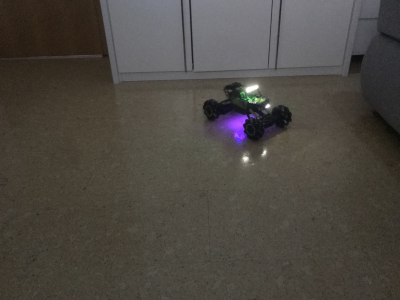remote control car: (198, 78, 296, 141)
